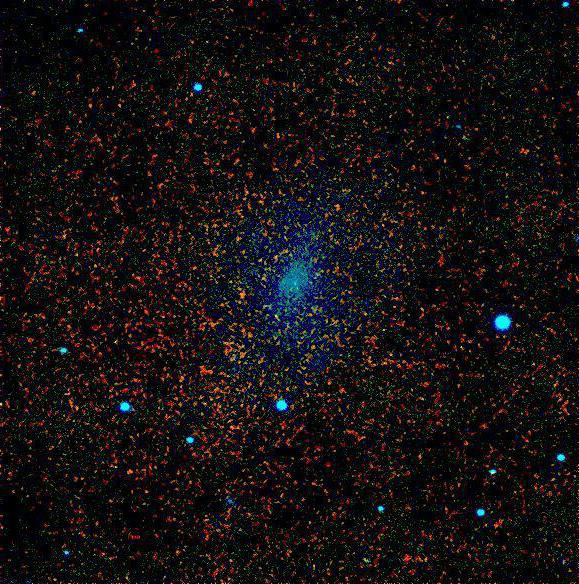star: (228, 279, 258, 309)
